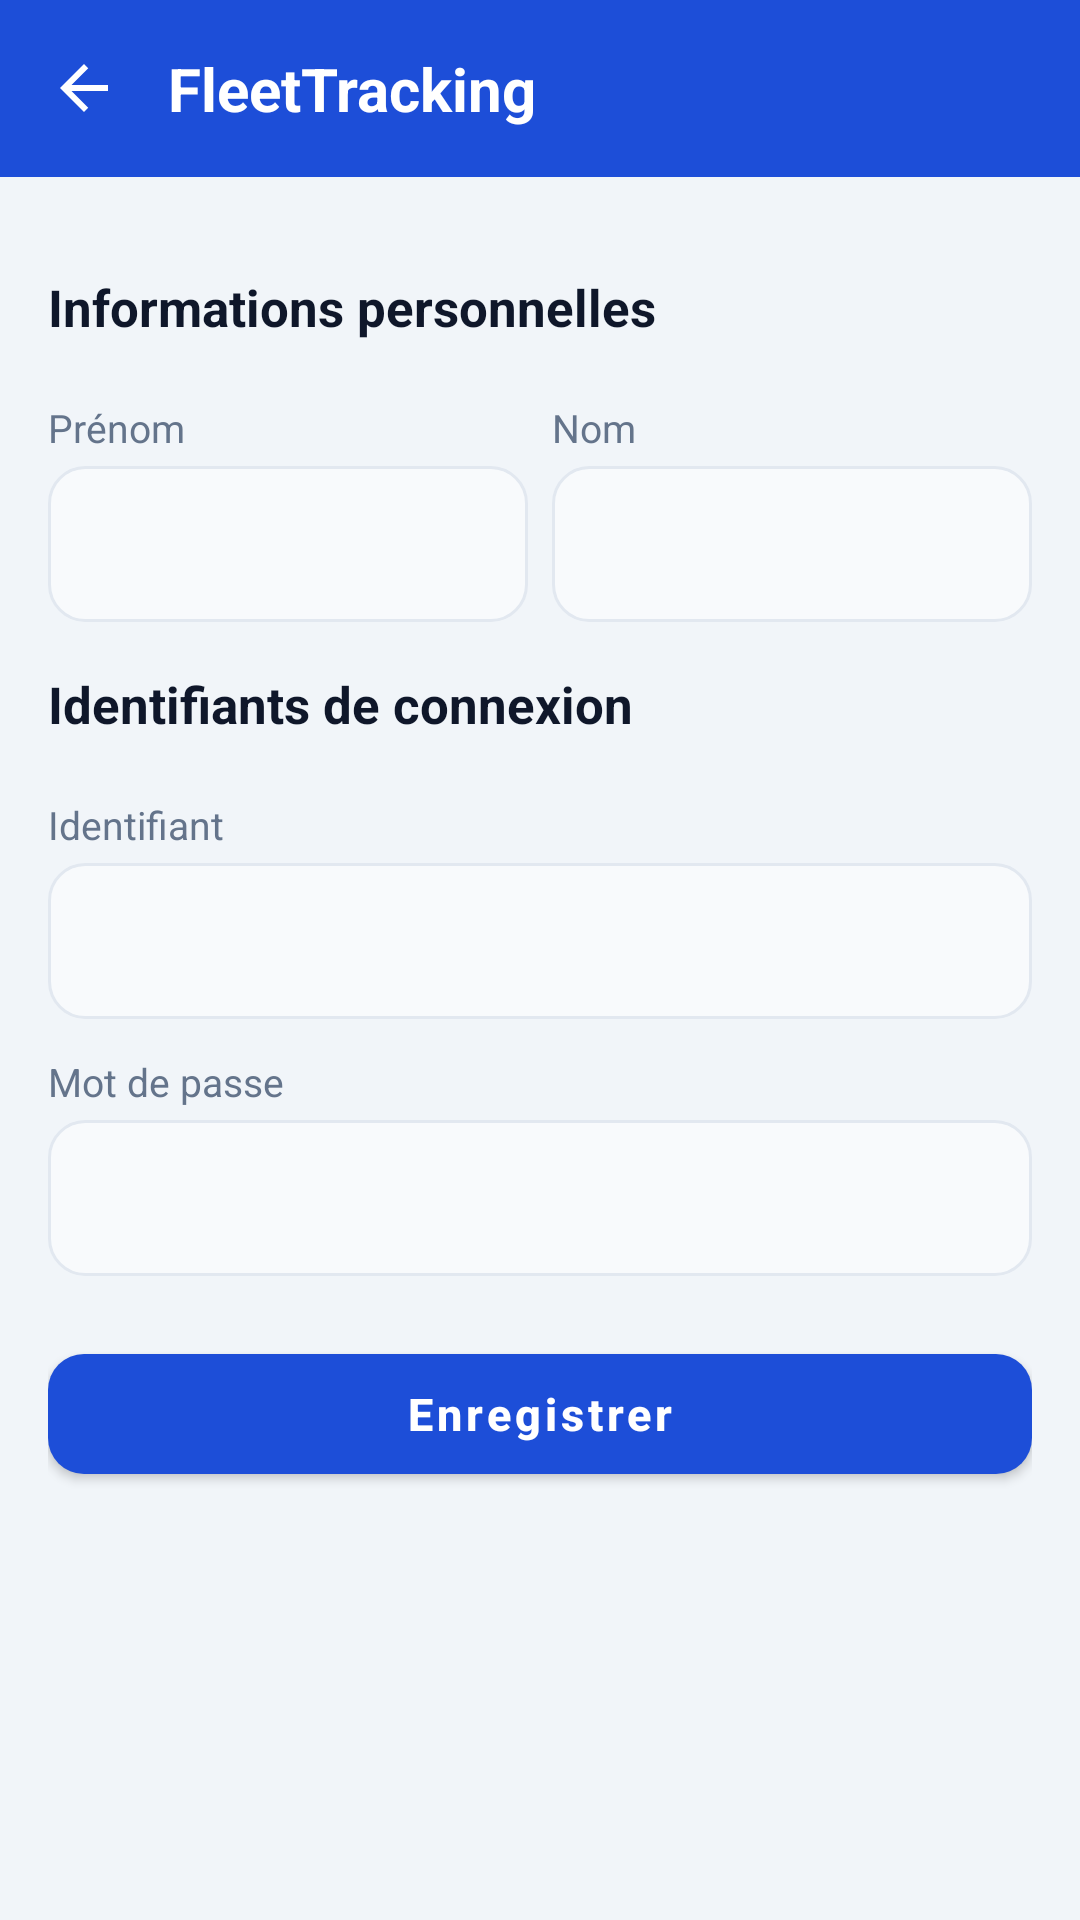

Where icons sit on this 1080px x 1920px app screen, as (x1, y1, x2, y2):
Retour: (60, 64, 108, 112)
